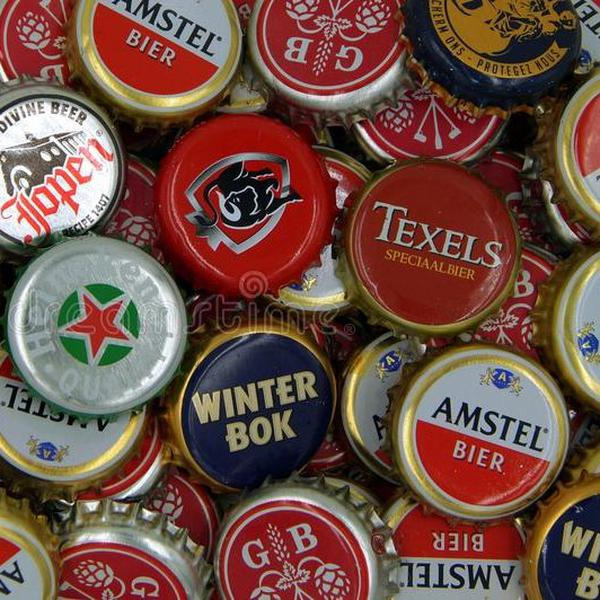amstel: (397, 343, 569, 523), (77, 1, 243, 115), (385, 499, 533, 600)
grolsch: (248, 1, 409, 103)
heineken: (11, 234, 189, 418)
jupiler: (154, 112, 336, 294)
